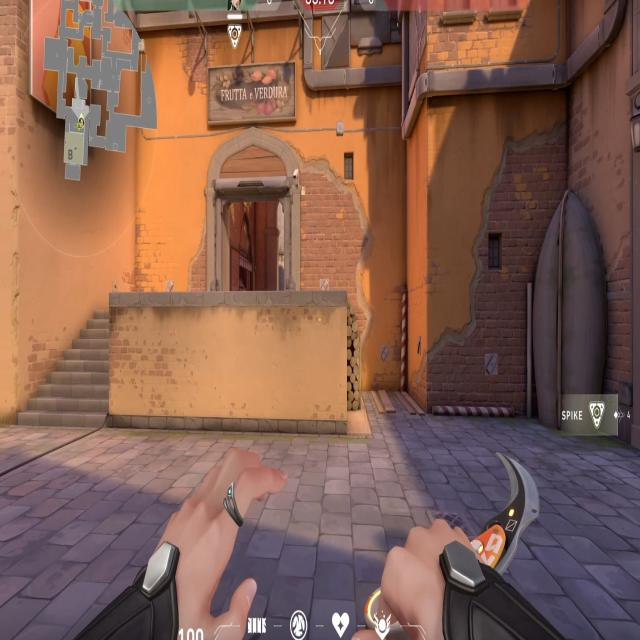B_Cubby: (332, 274, 406, 418)
